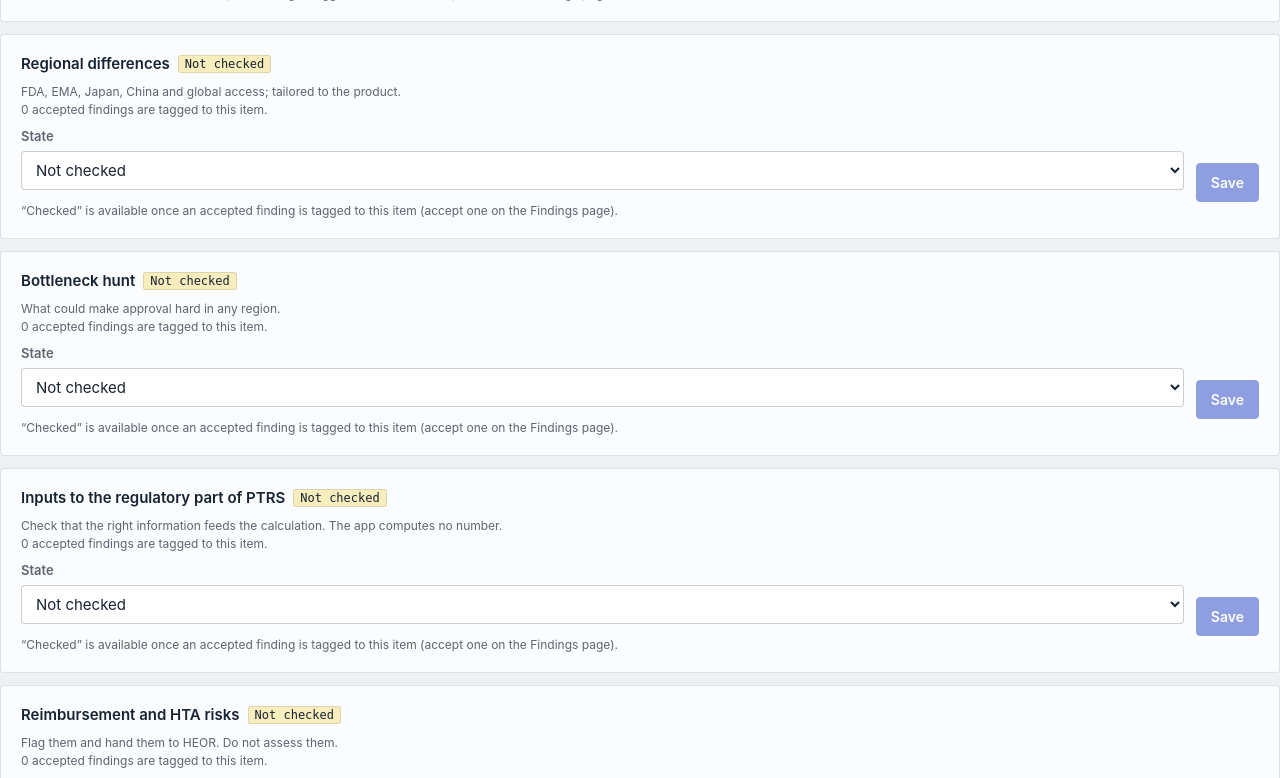
Scenario: ChecklistPanel › can mark an item "could not check", with its reason, and saves it
The image size is (1280, 778).
(page scrolled)
Step 1. Select "Could not check" in the dropdown named "State of Bottleneck hunt" → (602, 387), box [21,368,1184,407]
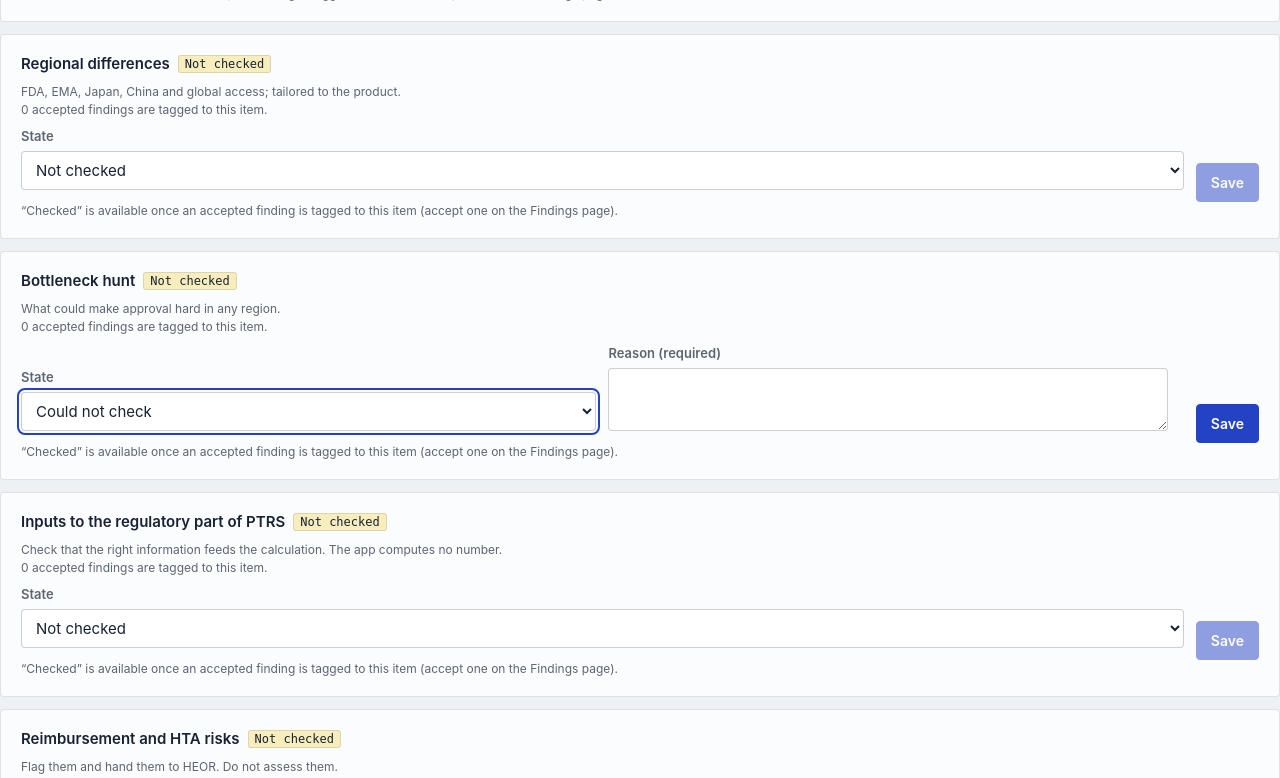
Check: the text box named "Reason for Bottleneck hunt" is shown
Step 2. Type "The filing plan was not provided." into the text box named "Reason for Bottleneck hunt" → (888, 399), box [608,368,1168,431]
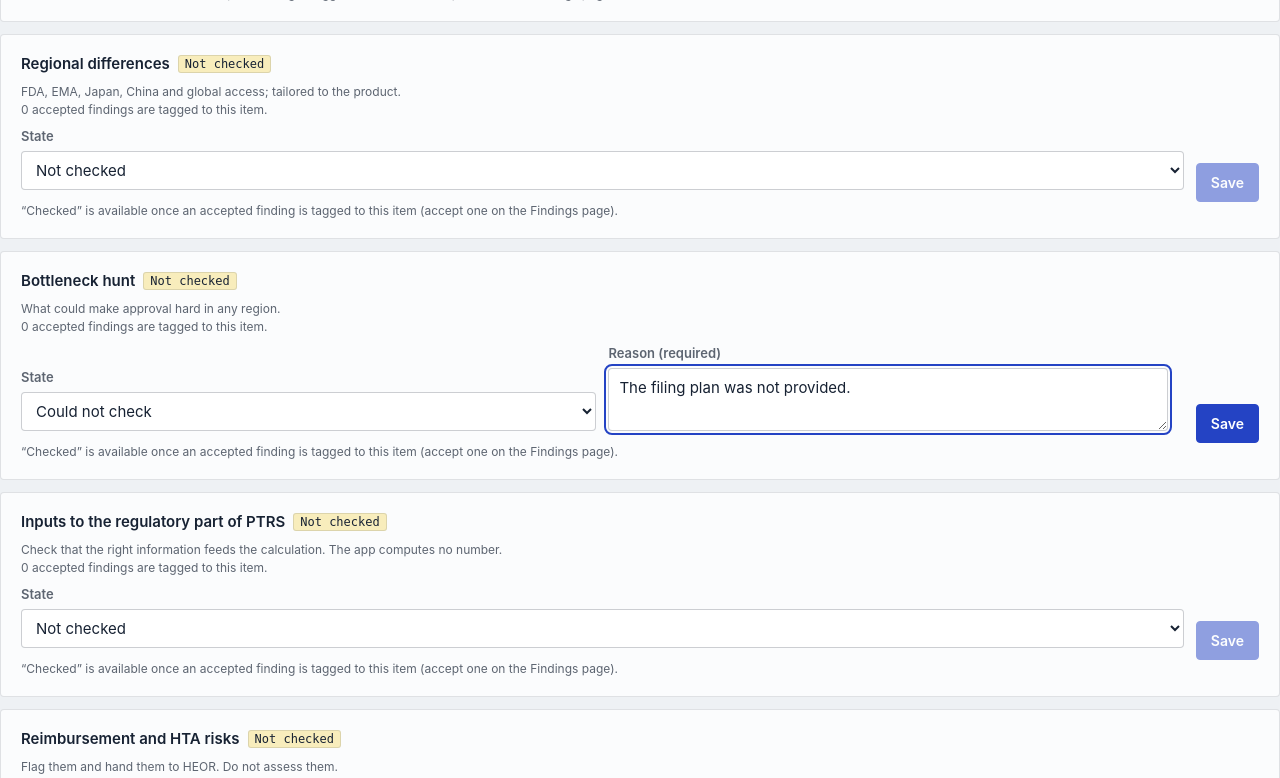
Step 3. Click the button with aria-label "Save Bottleneck hunt" → (1227, 423), box [1196,404,1259,443]
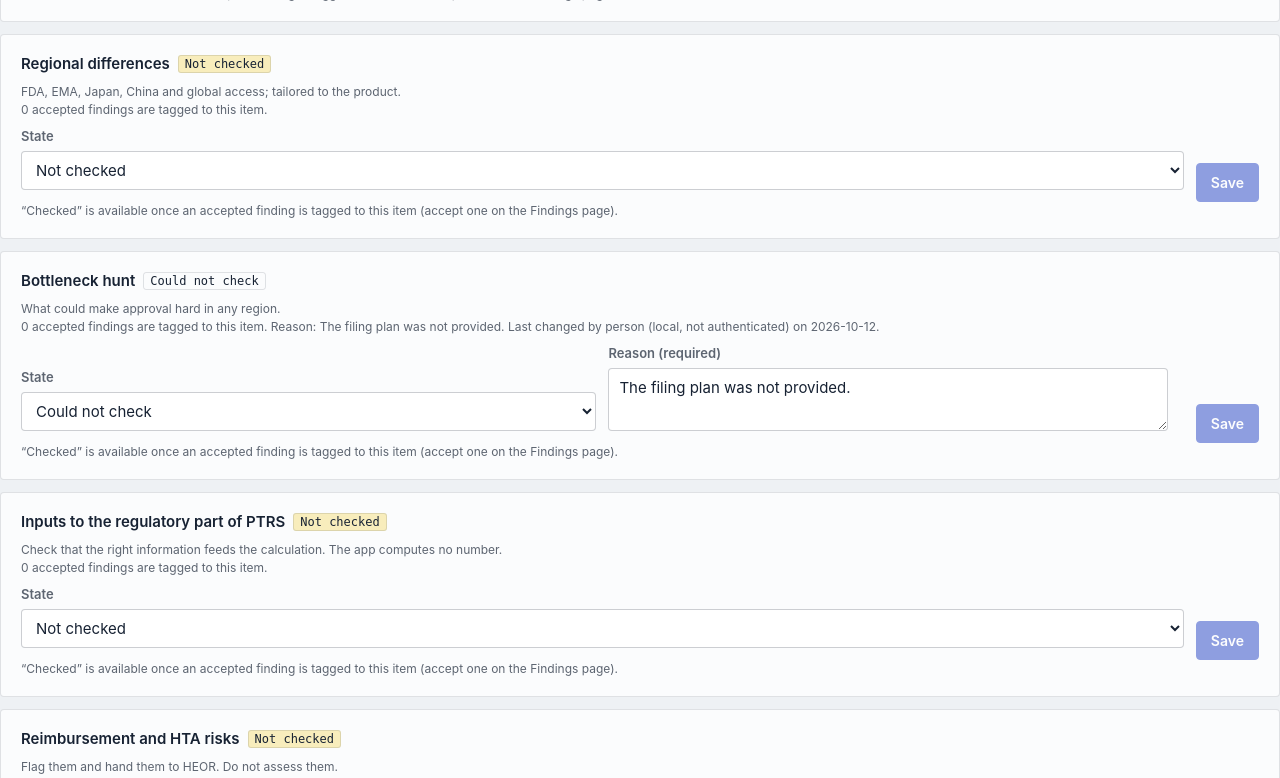
Check: the text with class "badge" reads "Could not check", box [150,274,259,288]
